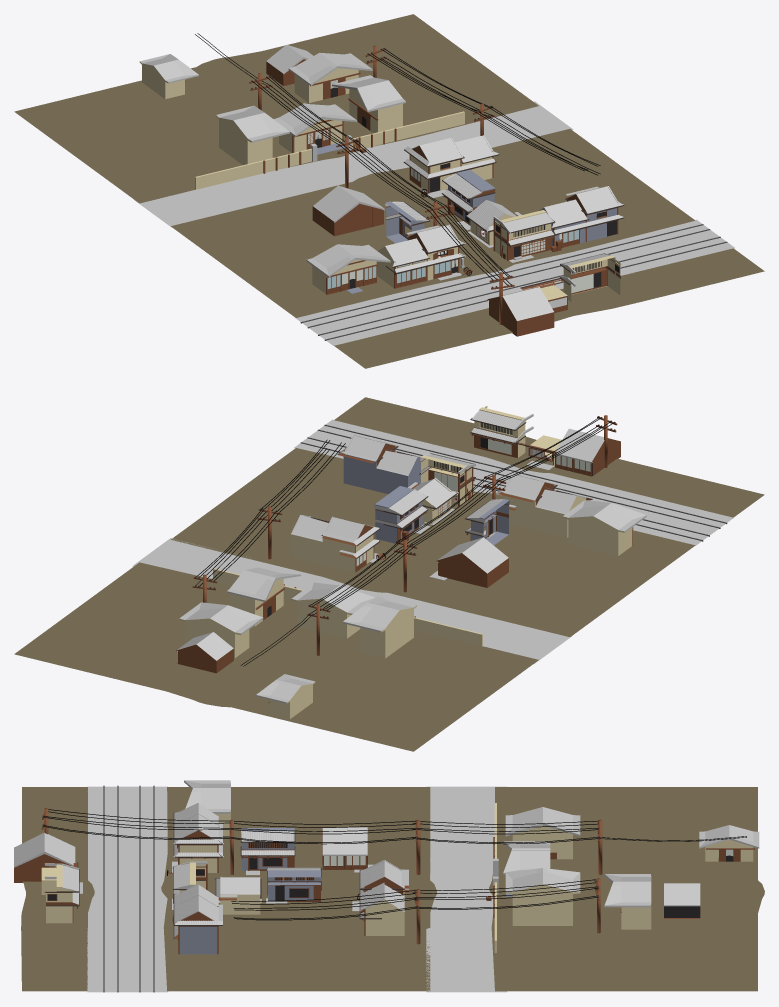
Rendered from JapanStreetExport1 1.fbx.
3 views of the same model, one above another, from view 1: azimuth 30°, elevation 25°; view 2: azimuth 150°, elevation 25°; view 3: azimuth 270°, elevation 25° (orthographic). The views are drawn at different scales.
Parts seen in each view (by area): view 1: Plane.002; view 2: Plane.002; view 3: Plane.002.
Part boxes in pixels (x1=…): Plane.002: x1=14, y1=14, x2=764, y2=368; Plane.002: x1=14, y1=397, x2=764, y2=751; Plane.002: x1=14, y1=780, x2=764, y2=992.
Bounding box in the file's own units: 7774 × 979 × 11992.
